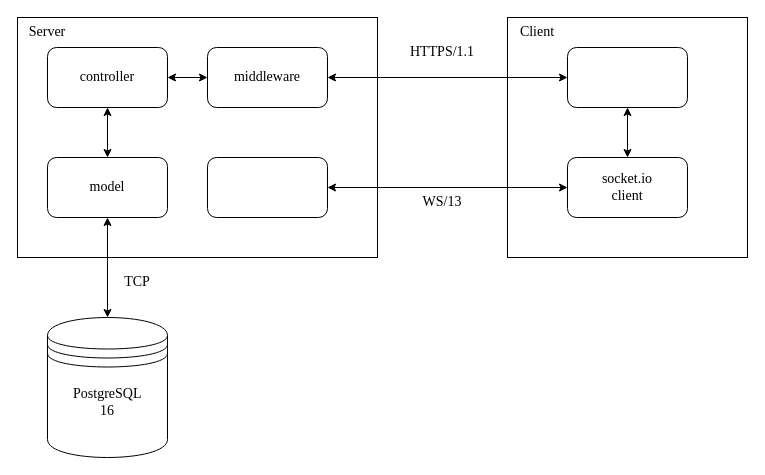
This 765x475 diagram has some shape labels left out. The box of each missing label's shape, as (x1, y1, x2, y2) in pixels:
React.js component: (566, 46, 688, 108)
socket.io server: (206, 156, 328, 218)
